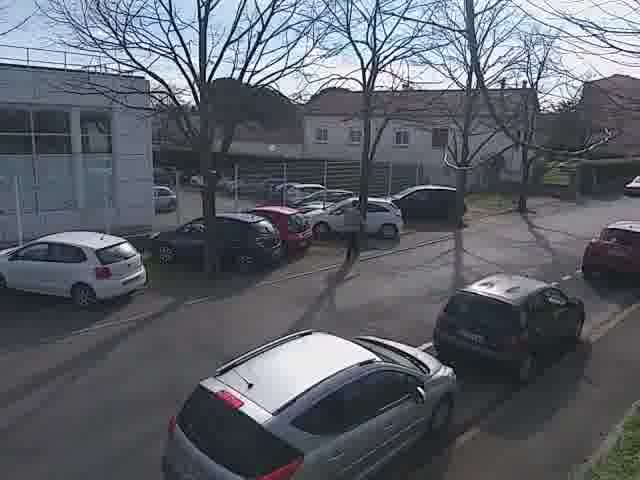persona: (336, 187, 366, 265)
